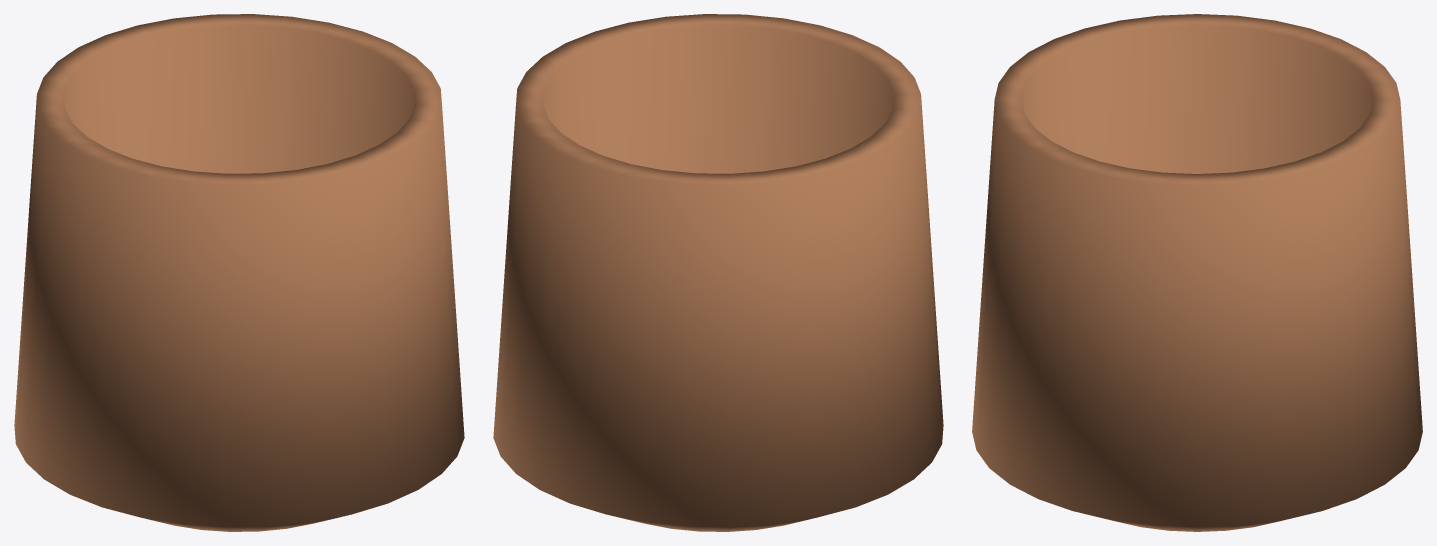
The model's file is sku_vase.glb.
3 views of the same model, side by side, from view 1: azimuth 30°, elevation 25°; view 2: azimuth 150°, elevation 25°; view 3: azimuth 270°, elevation 25° (orthographic).
Parts seen in each view (by area): view 1: sku_vase_Glazed_ceramic_2; view 2: sku_vase_Glazed_ceramic_2; view 3: sku_vase_Glazed_ceramic_2.
Boxes of the visible parts, <box> form: sku_vase_Glazed_ceramic_2: <box>14,14,464,531</box>; sku_vase_Glazed_ceramic_2: <box>493,14,943,531</box>; sku_vase_Glazed_ceramic_2: <box>972,14,1422,531</box>.
Size of the model in its own units: 0.32 by 0.29 by 0.32.
